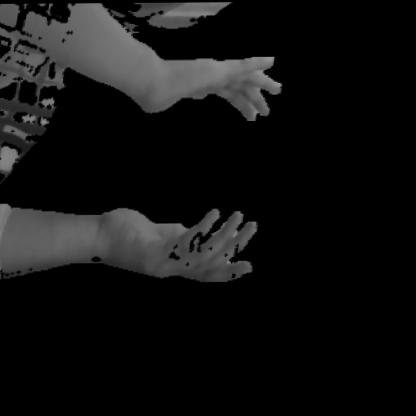clap: (63, 20, 307, 301)
